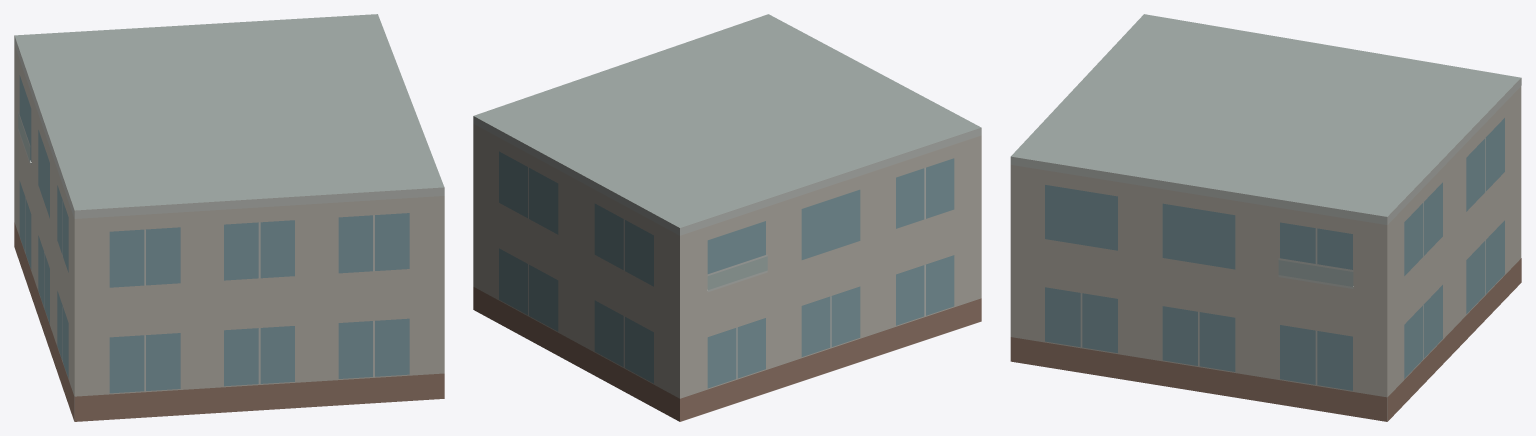
Rendered from survey-upis-32909507.glb.
3 renders of one model, left to right at view 1: azimuth 30°, elevation 25°; view 2: azimuth 150°, elevation 25°; view 3: azimuth 270°, elevation 25°, orthographic. The views are drawn at different scales.
Visible parts, largest first — view 1: survey-upis-32909507.tmp; view 2: survey-upis-32909507.tmp; view 3: survey-upis-32909507.tmp.
Boxes of the visible parts, bbox=[...] form: survey-upis-32909507.tmp: bbox=[14, 14, 444, 421]; survey-upis-32909507.tmp: bbox=[473, 14, 981, 421]; survey-upis-32909507.tmp: bbox=[1010, 14, 1521, 421].
Size of the model in its own units: 12.96 by 6.1 by 13.79.
